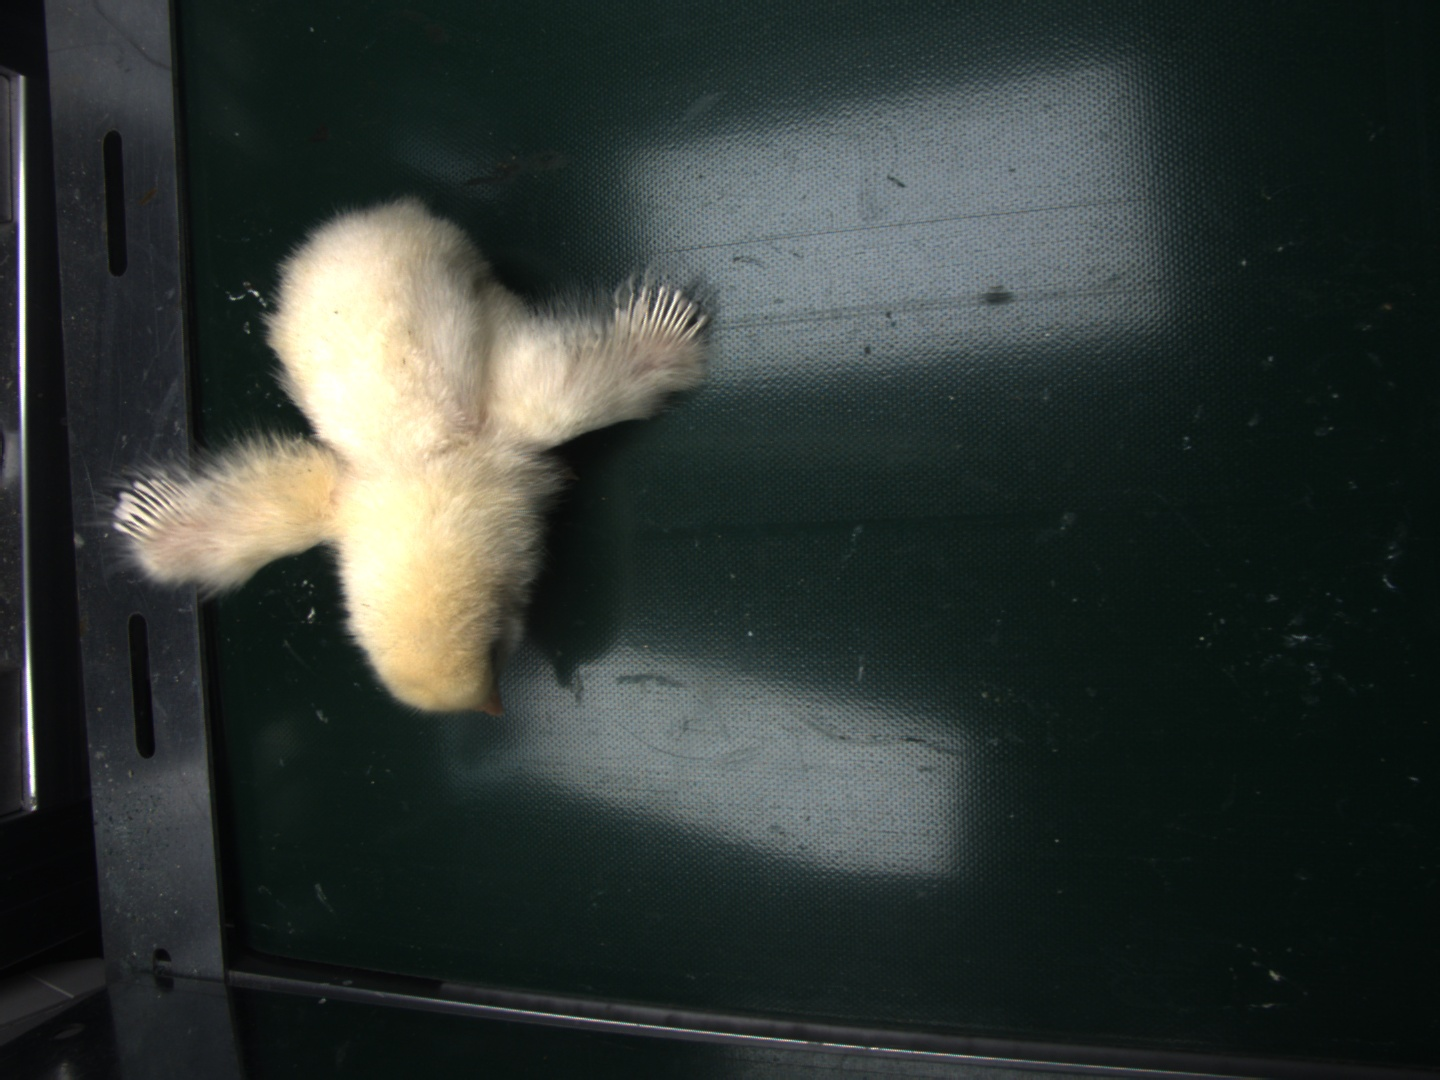male: (109, 469, 192, 545), (624, 280, 709, 344)
